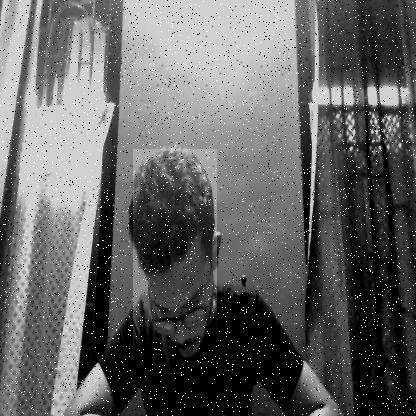Distracted: (133, 149, 217, 370)
